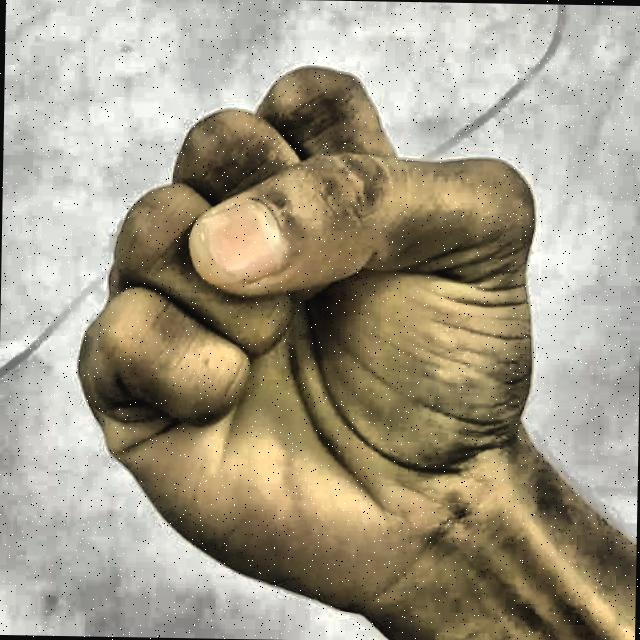Sha: (41, 31, 596, 640)
